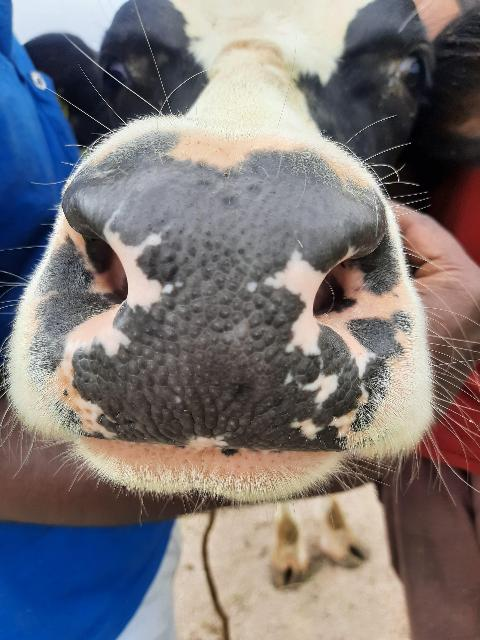Muzzle: (89, 187, 349, 446)
